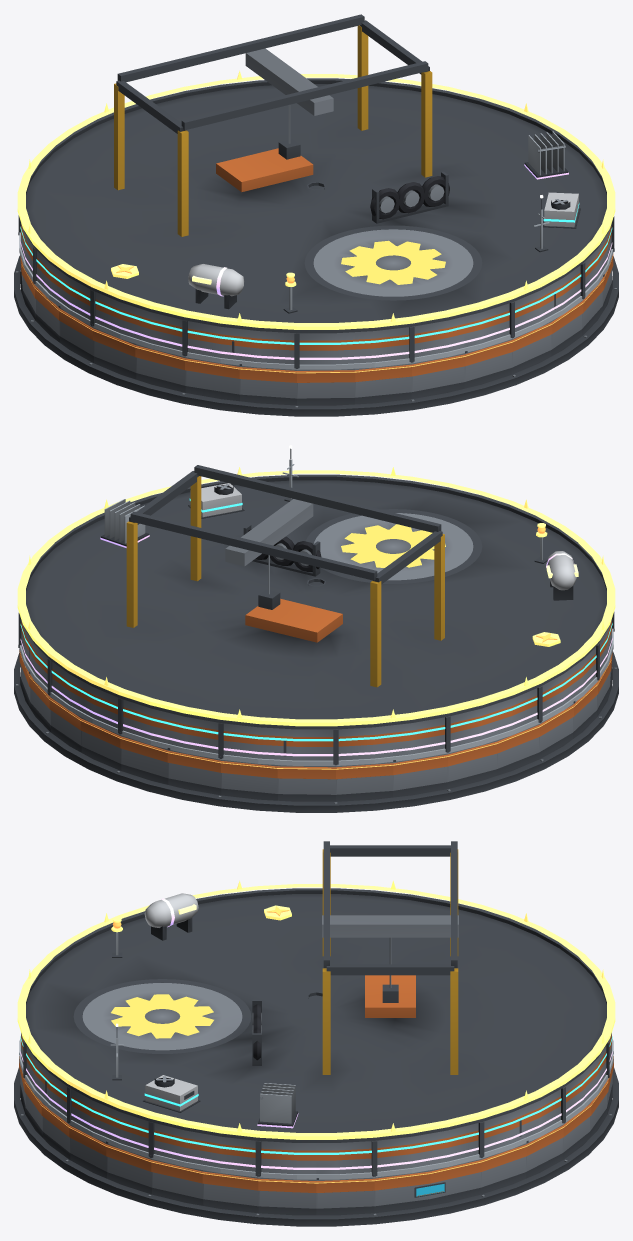
Rendered from parts_works_l.glb.
3 views of the same model, one above another, from view 1: azimuth 30°, elevation 25°; view 2: azimuth 150°, elevation 25°; view 3: azimuth 270°, elevation 25° (orthographic).
Visible parts, largest first — view 1: Roof, Base, L4, Wall_21, Wall_20, Wall_22, Wall_19, Wall_23, Wall_18, Wall_24, Upper_22, Upper_21 (+20 smaller); view 2: Roof, Base, L4, Wall_10, Wall_11, Wall_09, Wall_12, Wall_08, Wall_13, Wall_07, Upper_09, Upper_11 (+23 smaller); view 3: Roof, Base, L4, Wall_00, Wall_31, Wall_30, Wall_01, Wall_29, Wall_02, Upper_00, Upper_31, Wall_28 (+24 smaller).
Part boxes in pixels (x1,y1,x2,y2): Roof: [24, 14, 608, 333]; Base: [14, 255, 618, 416]; L4: [188, 131, 568, 309]; Wall_21: [297, 368, 355, 405]; Wall_20: [239, 364, 296, 405]; Wall_22: [355, 363, 411, 404]; Wall_19: [185, 357, 239, 401]; Wall_23: [411, 353, 465, 398]; Wall_18: [135, 344, 185, 392]; Wall_24: [464, 339, 512, 388]; Upper_22: [355, 327, 412, 363]; Upper_21: [297, 332, 354, 368]; Roof: [24, 465, 608, 729]; Base: [14, 651, 618, 812]; L4: [100, 499, 578, 600]; Wall_10: [277, 765, 335, 801]; Wall_11: [336, 762, 393, 801]; Wall_09: [221, 759, 277, 800]; Wall_12: [393, 753, 447, 797]; Wall_08: [167, 747, 221, 795]; Wall_13: [447, 740, 497, 788]; Wall_07: [120, 735, 168, 784]; Upper_09: [220, 723, 277, 759]; Upper_11: [336, 725, 392, 764]; Roof: [24, 841, 608, 1142]; Base: [14, 1068, 618, 1226]; L4: [144, 893, 298, 1128]; Wall_00: [316, 1177, 374, 1215]; Wall_31: [258, 1177, 316, 1215]; Wall_30: [202, 1170, 258, 1213]; Wall_01: [374, 1170, 430, 1213]; Wall_29: [151, 1159, 203, 1205]; Wall_02: [429, 1159, 481, 1205]; Upper_00: [316, 1141, 374, 1176]; Upper_31: [258, 1141, 316, 1176]; Wall_28: [106, 1141, 151, 1194].
Bounding box in the file's own units: 18.96 × 6.73 × 18.96.
